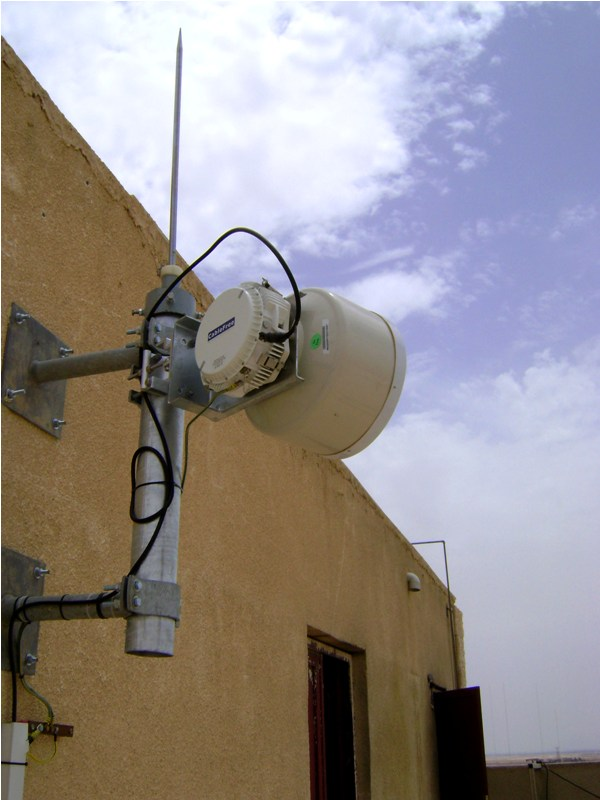ba: (208, 274, 410, 461)
